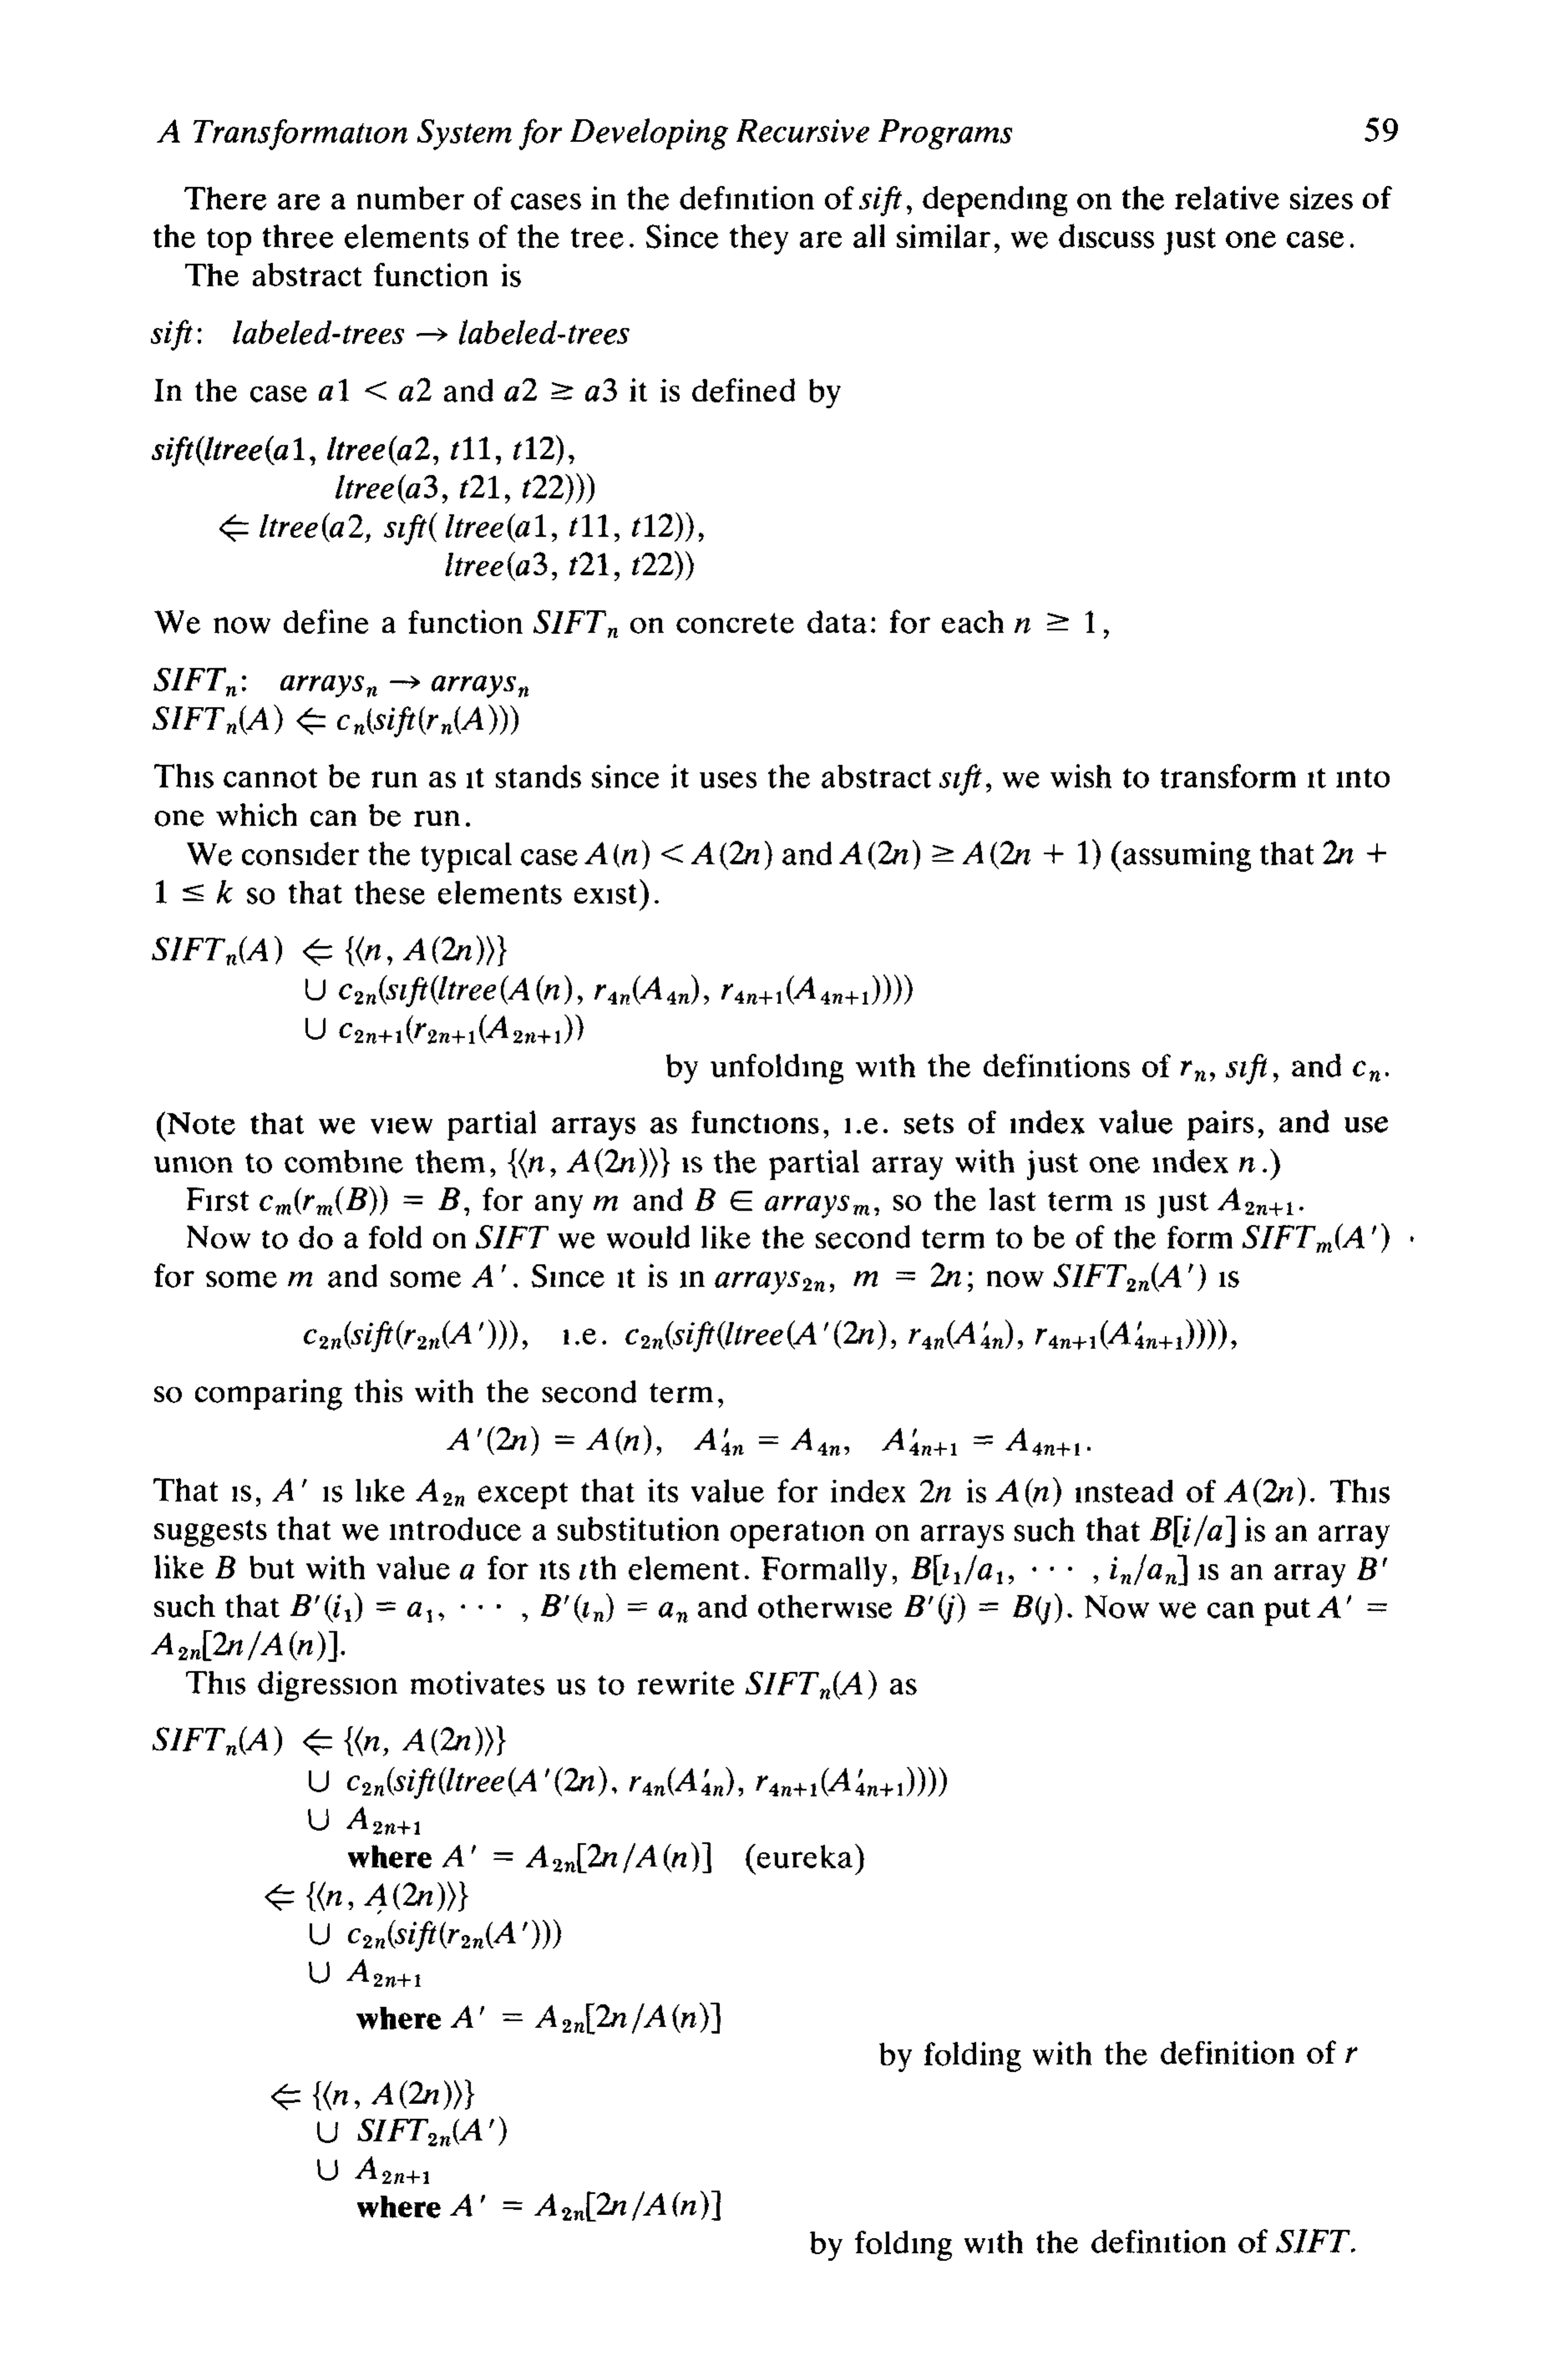maths: (309, 1767, 947, 1798), (626, 1319, 1227, 1353), (306, 975, 912, 1007), (220, 512, 694, 545), (150, 320, 629, 351), (152, 435, 563, 467), (152, 704, 519, 737), (152, 935, 507, 966), (152, 1725, 507, 1756), (911, 1553, 1187, 1587), (442, 1842, 711, 1873), (451, 2003, 720, 2034), (309, 1919, 561, 1952), (336, 474, 594, 505), (451, 2191, 720, 2221), (446, 550, 694, 582), (839, 839, 1101, 868), (306, 1015, 584, 1043), (304, 1319, 517, 1353), (271, 2079, 474, 2111), (447, 1426, 652, 1456), (264, 1882, 468, 1912), (260, 1187, 460, 1216), (150, 1630, 337, 1662), (507, 1148, 703, 1178), (584, 841, 773, 870), (318, 2116, 507, 2146), (281, 676, 528, 699), (881, 1428, 1080, 1456), (694, 1188, 869, 1218), (904, 1594, 1063, 1625), (290, 1592, 444, 1623), (1243, 1223, 1389, 1253), (542, 1594, 689, 1623), (1054, 1263, 1206, 1291), (694, 1428, 841, 1456), (746, 1671, 877, 1700), (308, 1807, 419, 1835), (309, 1959, 421, 1987), (318, 2156, 430, 2184), (1150, 1515, 1236, 1548), (318, 377, 432, 402), (505, 377, 617, 402), (715, 1270, 825, 1295), (853, 1263, 961, 1288), (1223, 1477, 1306, 1508), (154, 668, 238, 697), (533, 610, 619, 638), (1218, 1188, 1293, 1216), (994, 1477, 1061, 1508), (1014, 610, 1094, 634), (156, 881, 232, 903), (1276, 2230, 1351, 2252), (475, 1225, 549, 1248), (1316, 1595, 1388, 1618), (1323, 841, 1386, 865), (939, 764, 982, 795), (416, 1478, 465, 1506), (1225, 1054, 1267, 1085), (472, 1265, 507, 1288), (273, 1478, 308, 1501), (919, 1480, 951, 1503), (1356, 1557, 1388, 1580), (1181, 1061, 1215, 1082), (1353, 1061, 1381, 1082), (215, 1555, 236, 1580), (1239, 1157, 1267, 1173), (594, 1195, 619, 1211), (1307, 769, 1327, 788), (288, 1272, 313, 1286), (863, 1118, 877, 1134), (582, 1328, 596, 1344), (460, 1564, 474, 1580), (461, 1604, 502, 1609), (1346, 2046, 1358, 2062), (580, 1564, 586, 1580)
